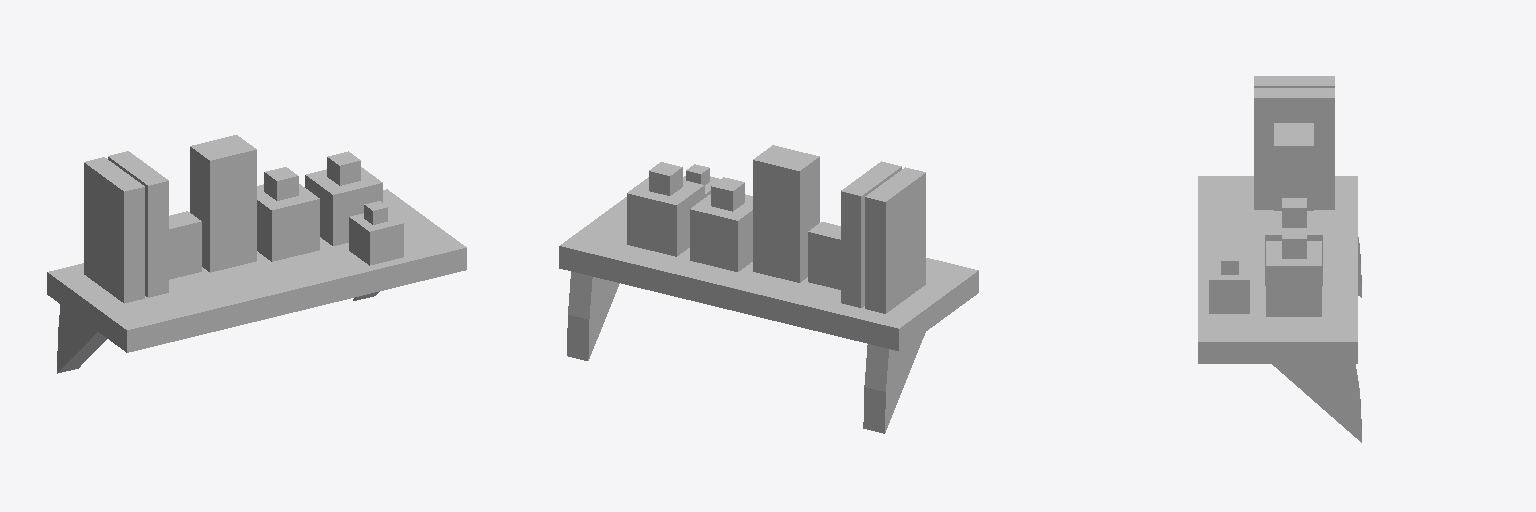
The model's file is shelf0.obj.
3 renders of one model, left to right at view 1: azimuth 30°, elevation 25°; view 2: azimuth 150°, elevation 25°; view 3: azimuth 270°, elevation 25°, orthographic.
Parts seen in each view (by area): view 1: Box006; view 2: Box006; view 3: Box006.
Boxes of the visible parts, <box> form: Box006: <box>47,135,466,373</box>; Box006: <box>559,145,978,433</box>; Box006: <box>1198,76,1361,442</box>.
Bounding box in the file's own units: 67.36 × 41.41 × 28.2.